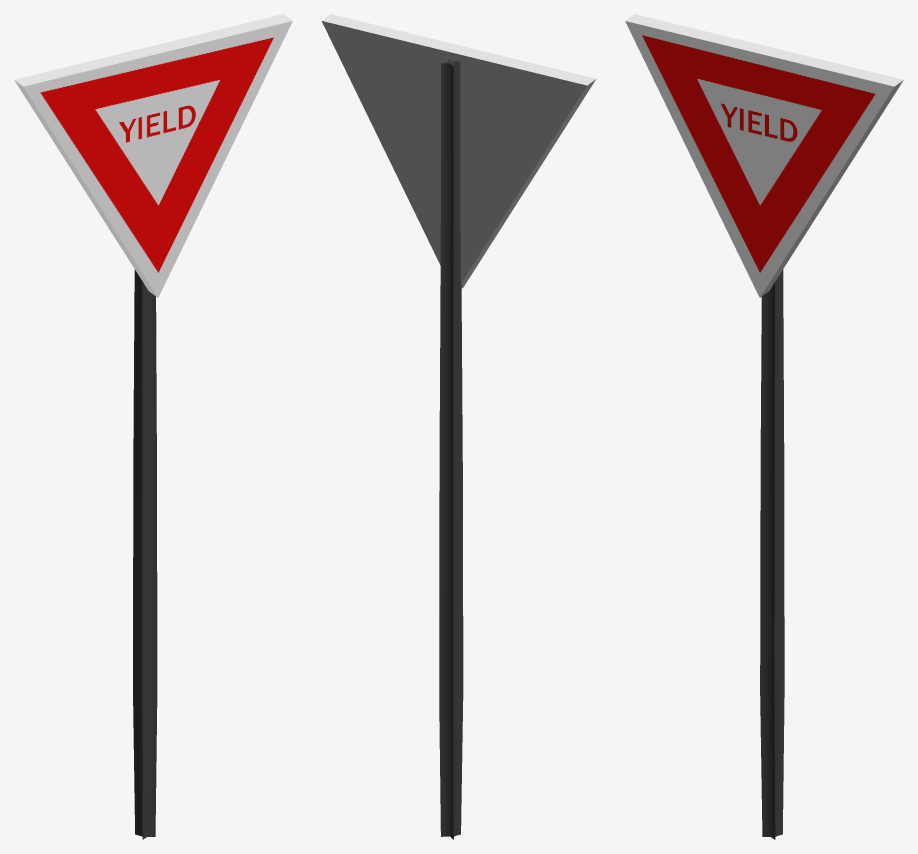
File: YieldSignAsset.fbx
The picture shows the model from 3 angles, left to right: view 1: azimuth 30°, elevation 25°; view 2: azimuth 150°, elevation 25°; view 3: azimuth 330°, elevation 25°; orthographic projection.
Visible parts, largest first — view 1: SignPole7; view 2: SignPole7; view 3: SignPole7.
Part boxes in pixels (left/top/right/bottom): SignPole7: left=14, top=14, right=292, bottom=839; SignPole7: left=322, top=14, right=595, bottom=839; SignPole7: left=625, top=14, right=903, bottom=839.
Size of the model in its own units: 85.84 by 241 by 9.93.
